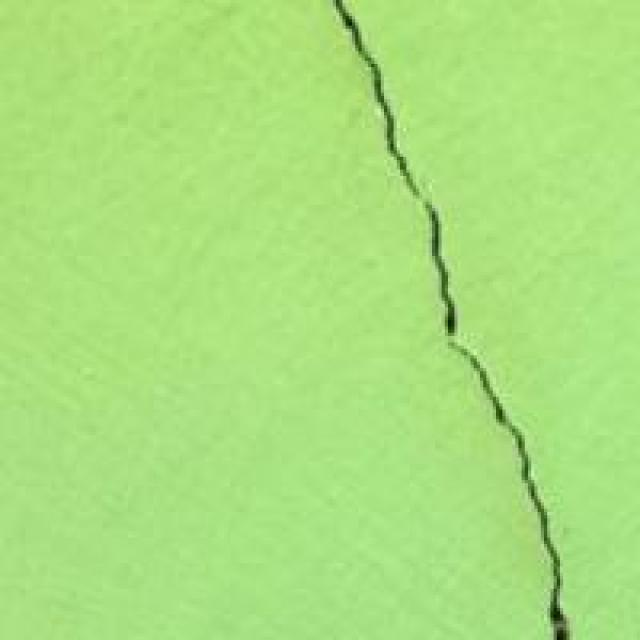crack: (314, 0, 579, 637)
